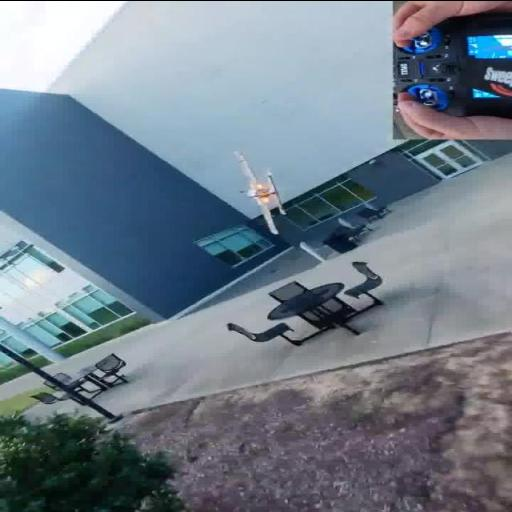uav: (222, 146, 302, 236)
